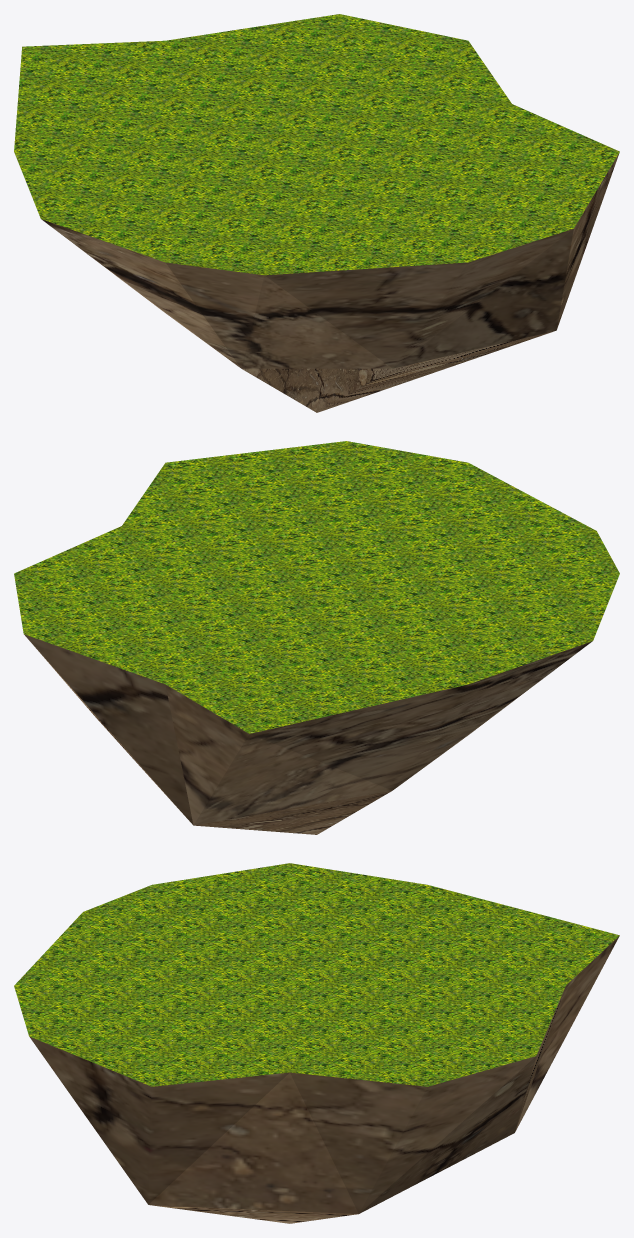
File: island.dae
The picture shows the model from 3 angles, top to bottom: view 1: azimuth 30°, elevation 25°; view 2: azimuth 150°, elevation 25°; view 3: azimuth 270°, elevation 25°; orthographic projection. The views are drawn at different scales.
Parts seen in each view (by area): view 1: Island_Cone; view 2: Island_Cone; view 3: Island_Cone.
Part boxes in pixels (bbox=[...]): Island_Cone: bbox=[14, 14, 619, 412]; Island_Cone: bbox=[14, 441, 619, 834]; Island_Cone: bbox=[14, 863, 619, 1223].
Bounding box in the file's own units: 49.56 × 56.74 × 24.59.
Materials: 1 (1 with a texture image).
